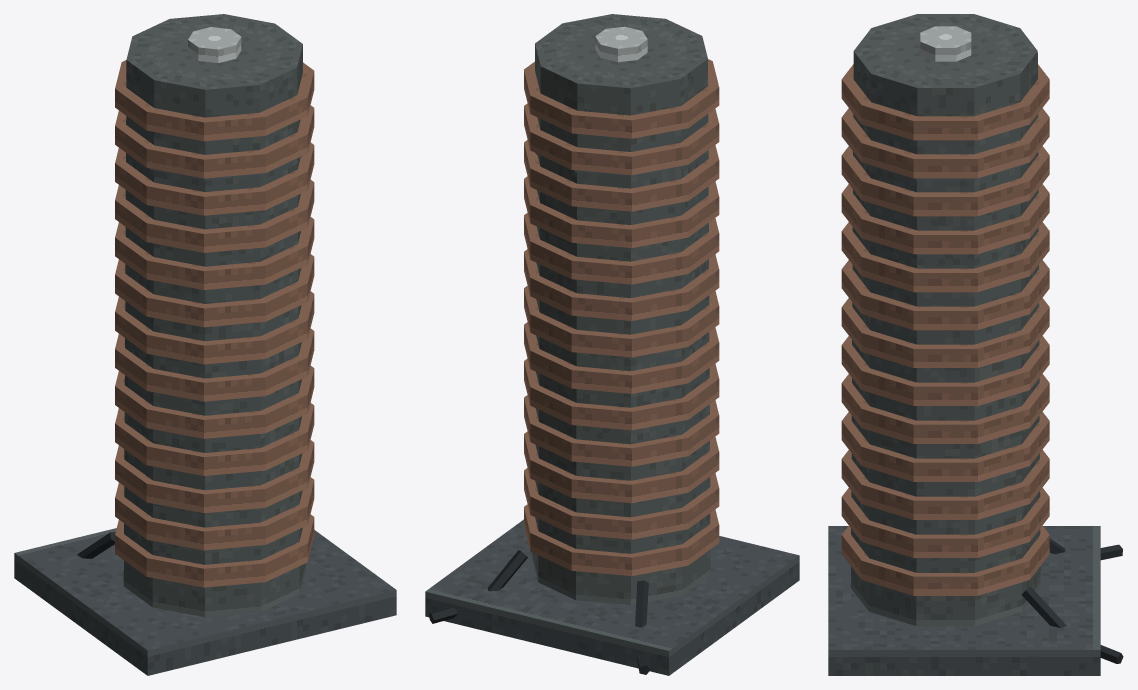
Rendered from f_string_dimension_pylon_inert.glb.
3 views of the same model, side by side, from view 1: azimuth 30°, elevation 25°; view 2: azimuth 150°, elevation 25°; view 3: azimuth 270°, elevation 25° (orthographic). The views are drawn at different scales.
Visible parts, largest first — view 1: block_thick-copper-turn (×13), block_exodii-power-core-shell, block_industrial-power-footing, block_exodii-power-core-cap; view 2: block_thick-copper-turn (×13), block_exodii-power-core-shell, block_industrial-power-footing, block_exodii-power-core-cap, block_grounded-generator-cable-1 (×2); view 3: block_thick-copper-turn (×13), block_exodii-power-core-shell, block_industrial-power-footing, block_exodii-power-core-cap, block_grounded-generator-cable-1.
Boxes of the visible parts, bbox=[...] form: block_thick-copper-turn (×13): bbox=[115, 60, 314, 587]; block_exodii-power-core-shell: bbox=[123, 14, 305, 617]; block_industrial-power-footing: bbox=[14, 528, 396, 675]; block_exodii-power-core-cap: bbox=[188, 27, 241, 62]; block_thick-copper-turn (×13): bbox=[524, 59, 719, 576]; block_exodii-power-core-shell: bbox=[532, 14, 710, 604]; block_industrial-power-footing: bbox=[425, 519, 799, 675]; block_exodii-power-core-cap: bbox=[595, 26, 647, 62]; block_grounded-generator-cable-1 (×2): bbox=[487, 550, 648, 627]; block_thick-copper-turn (×13): bbox=[841, 64, 1049, 595]; block_exodii-power-core-shell: bbox=[850, 14, 1040, 626]; block_industrial-power-footing: bbox=[828, 526, 1100, 675]; block_exodii-power-core-cap: bbox=[920, 26, 971, 61]; block_grounded-generator-cable-1: bbox=[1021, 586, 1066, 627].
Bounding box in the file's own units: 0.84 × 1.82 × 0.8454.
Materials: 1 (1 with a texture image).
